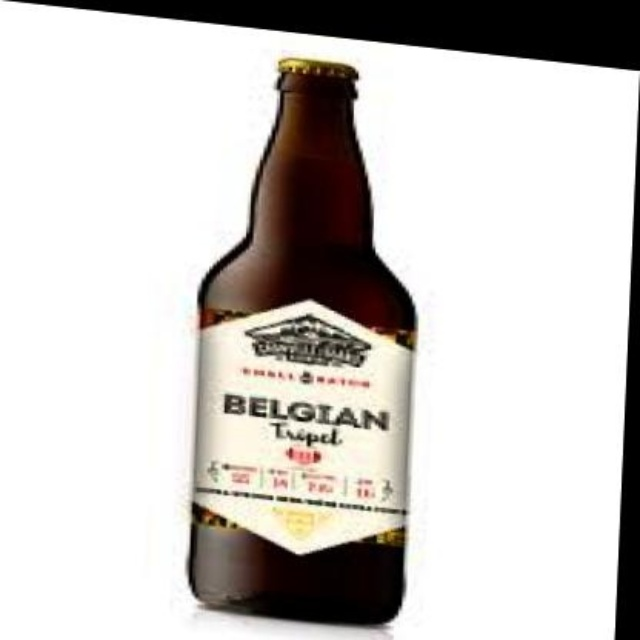trash: (189, 58, 414, 622)
